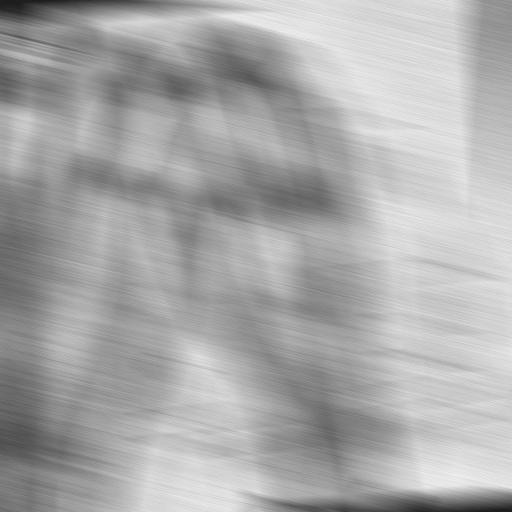house: (106, 29, 511, 478)
